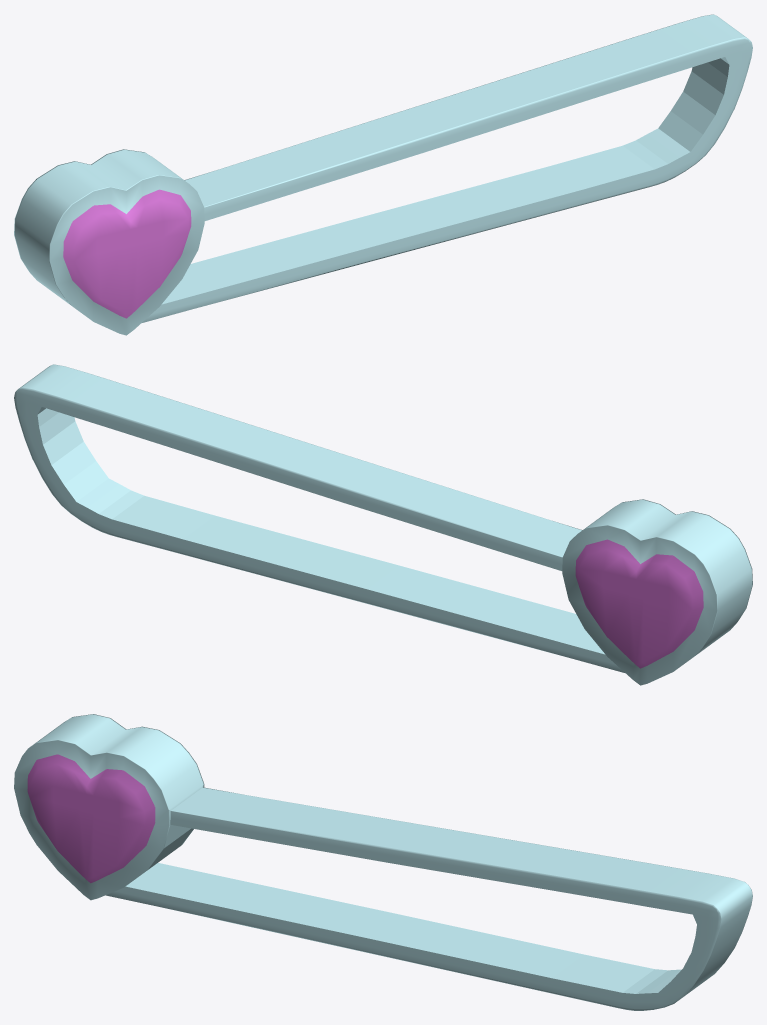
File: UI_HP_tomei.fbx
3 views of the same model, one above another, from view 1: azimuth 30°, elevation 25°; view 2: azimuth 150°, elevation 25°; view 3: azimuth 330°, elevation 25° (orthographic).
Visible parts, largest first — view 1: polySurface1; view 2: polySurface1; view 3: polySurface1.
Boxes of the visible parts, <box> form: polySurface1: <box>14,14,752,335</box>; polySurface1: <box>14,364,752,685</box>; polySurface1: <box>14,714,752,1010</box>.
Size of the model in its own units: 12.59 by 2.6 by 1.36.
1 material, 1 textured.
